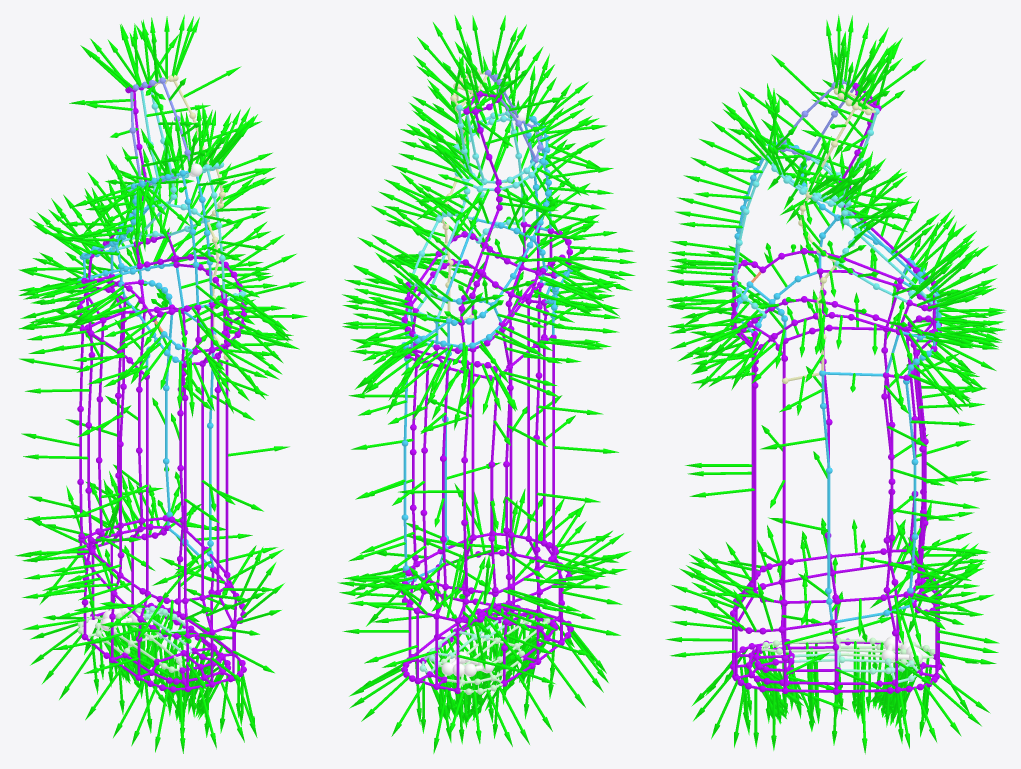
Rendered from flowrep_bottle.gltf.
3 views of the same model, side by side, from view 1: azimuth 30°, elevation 25°; view 2: azimuth 150°, elevation 25°; view 3: azimuth 270°, elevation 25° (orthographic). The views are drawn at different scales.
Size of the model in its own units: 0.368 by 1.14 by 0.5004.
